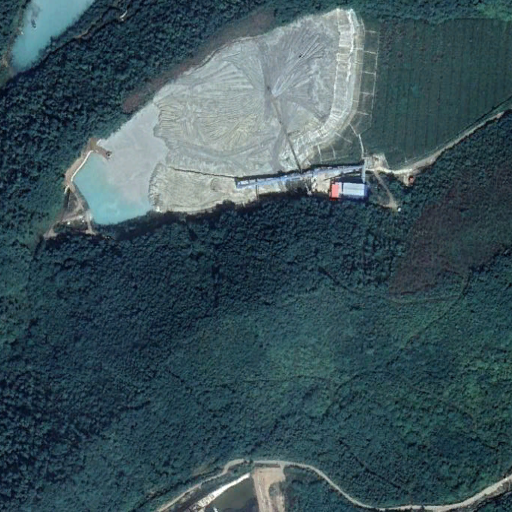tp: (61, 11, 364, 223)
